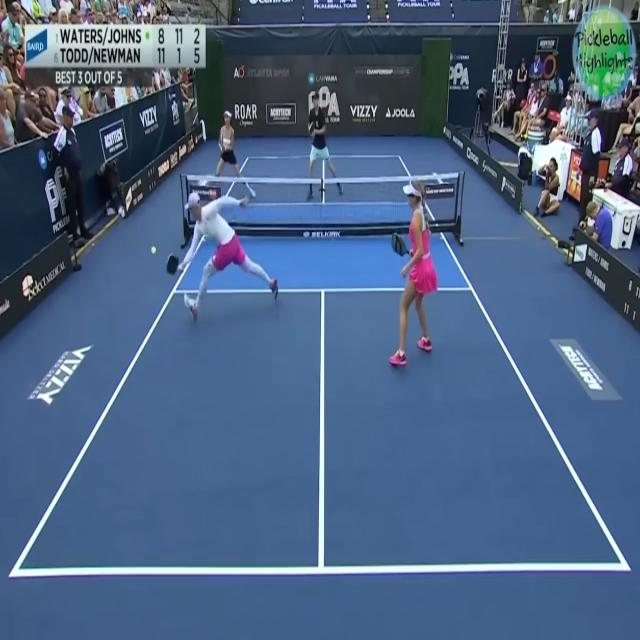Pickleball: (150, 243, 157, 257)
